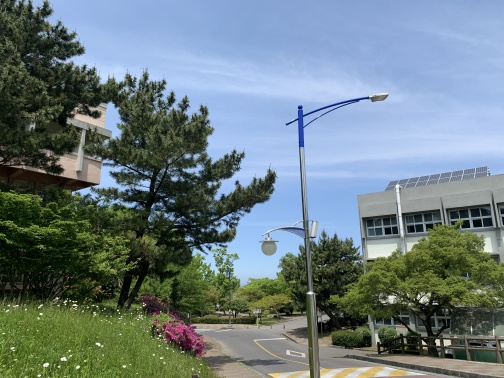College Of Education: (3, 65, 108, 308)
